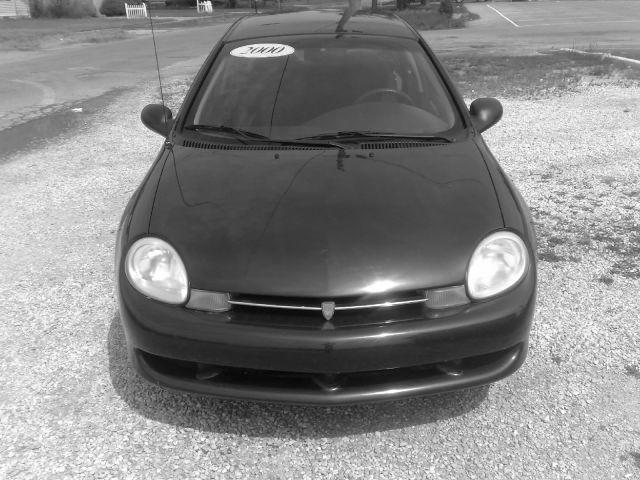car: (114, 11, 542, 414)
